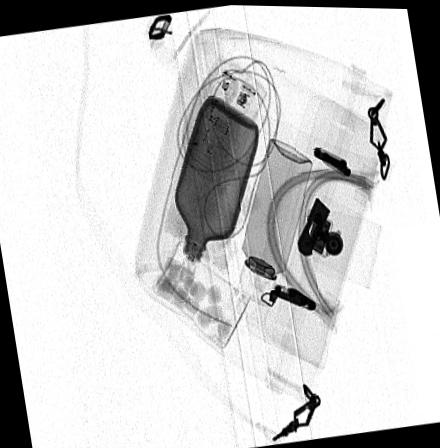Sprayer: (239, 138, 311, 305)
